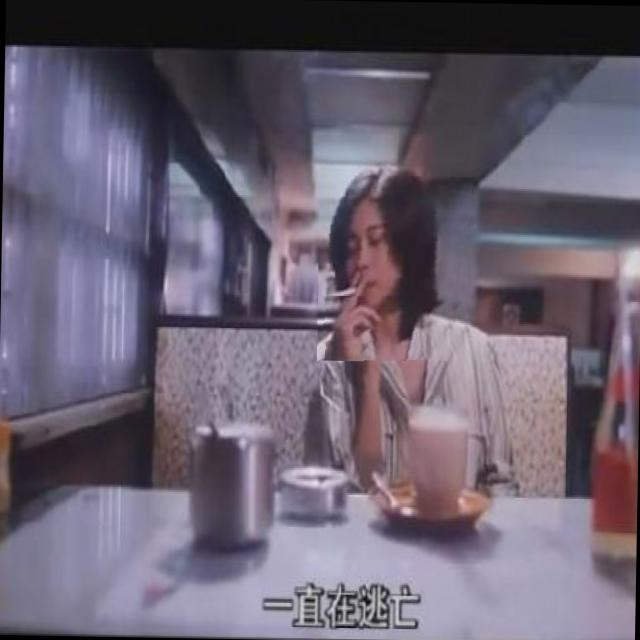cigarette: (333, 278, 368, 310)
